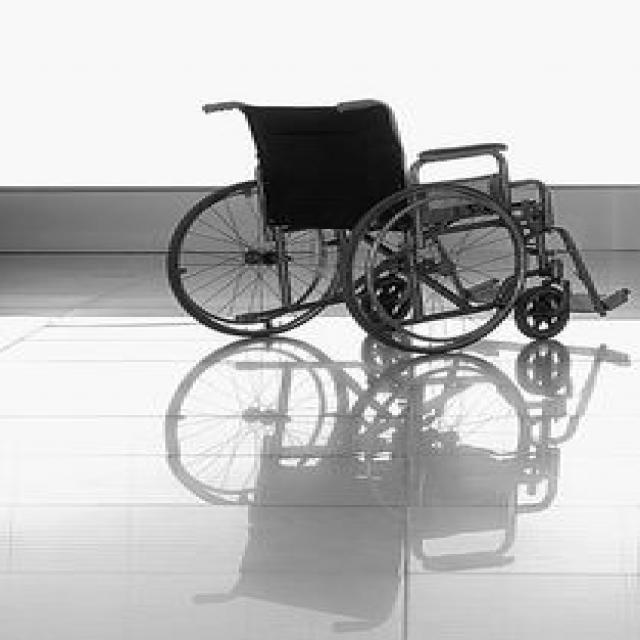wheelchair: (153, 80, 637, 368)
